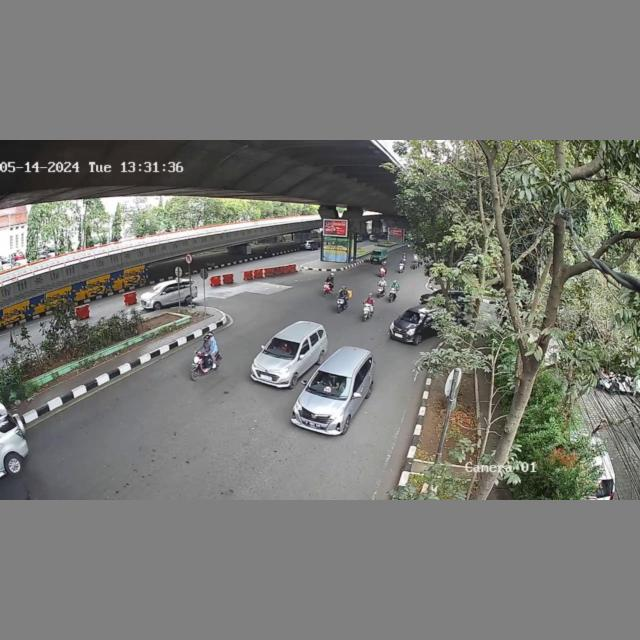windshield: (313, 372, 356, 401), (267, 337, 301, 359), (401, 309, 425, 324)
